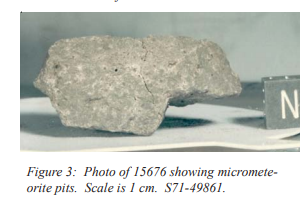Basalt: (25, 33, 249, 144)
